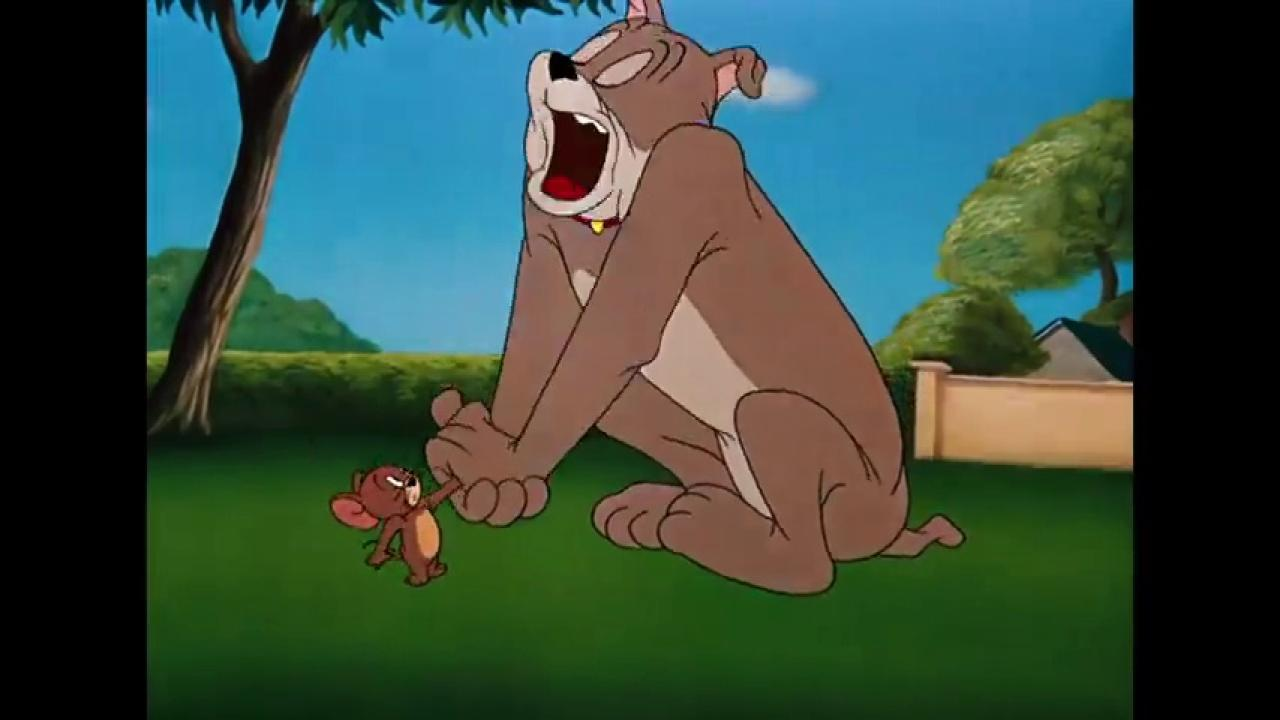Jerry: (326, 462, 466, 592)
